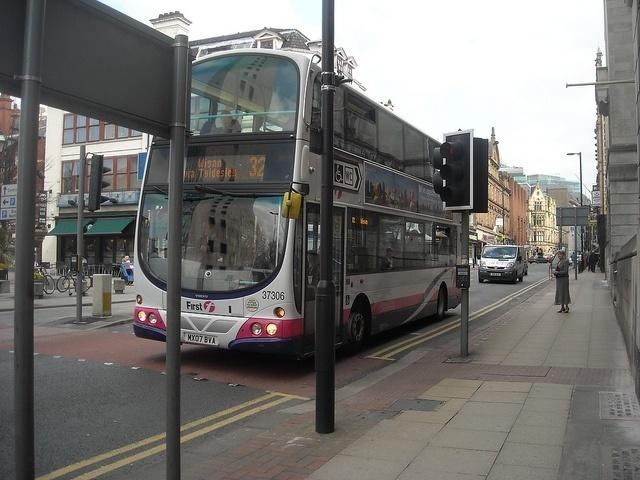car: (478, 244, 528, 284), (532, 255, 550, 264)
